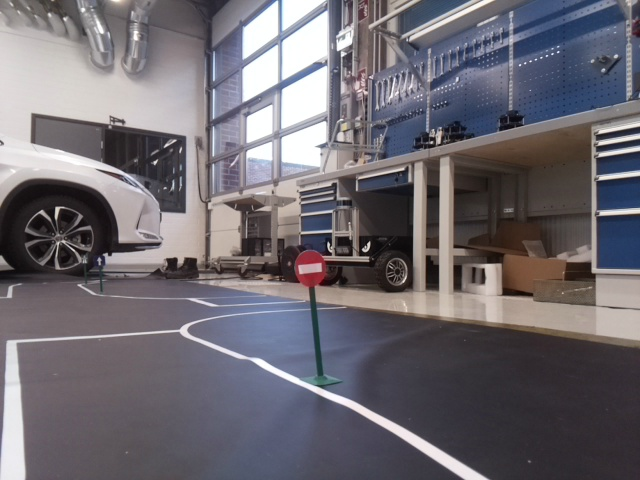NoEntry: (293, 250, 324, 286)
